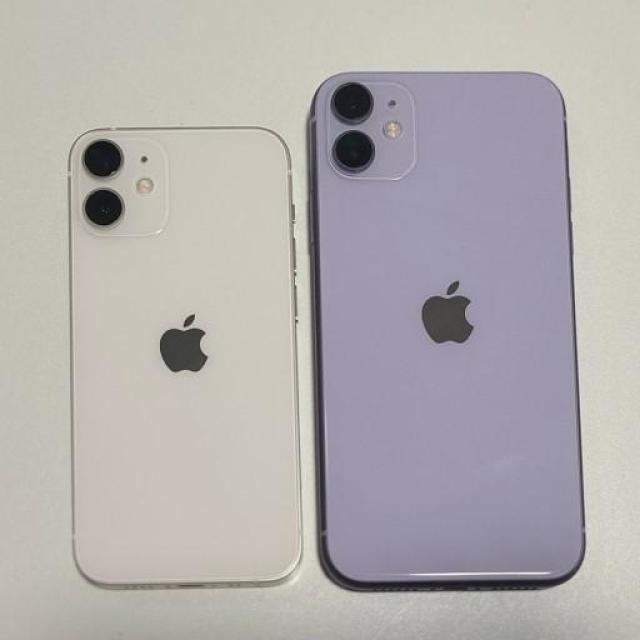smart phone: (323, 55, 590, 618), (42, 96, 315, 612)
